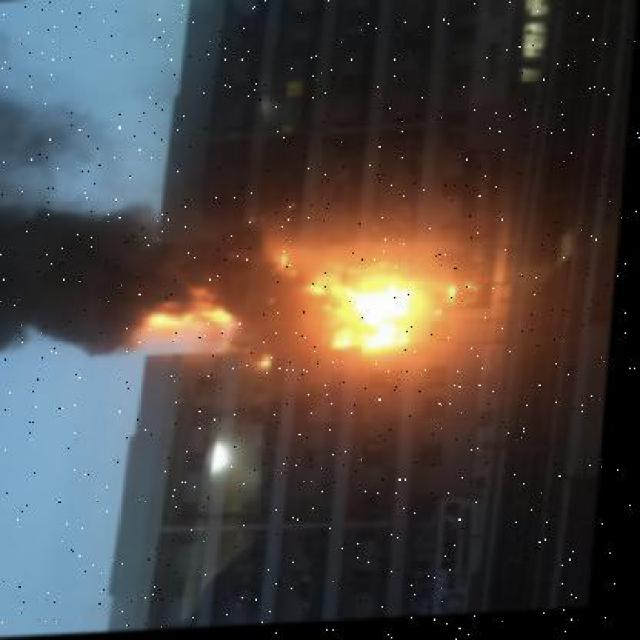fire: (255, 261, 464, 372)
